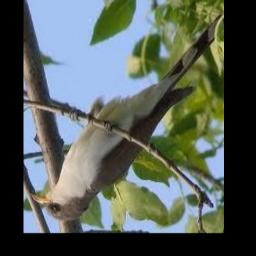Cuckoo: (31, 9, 224, 220)
